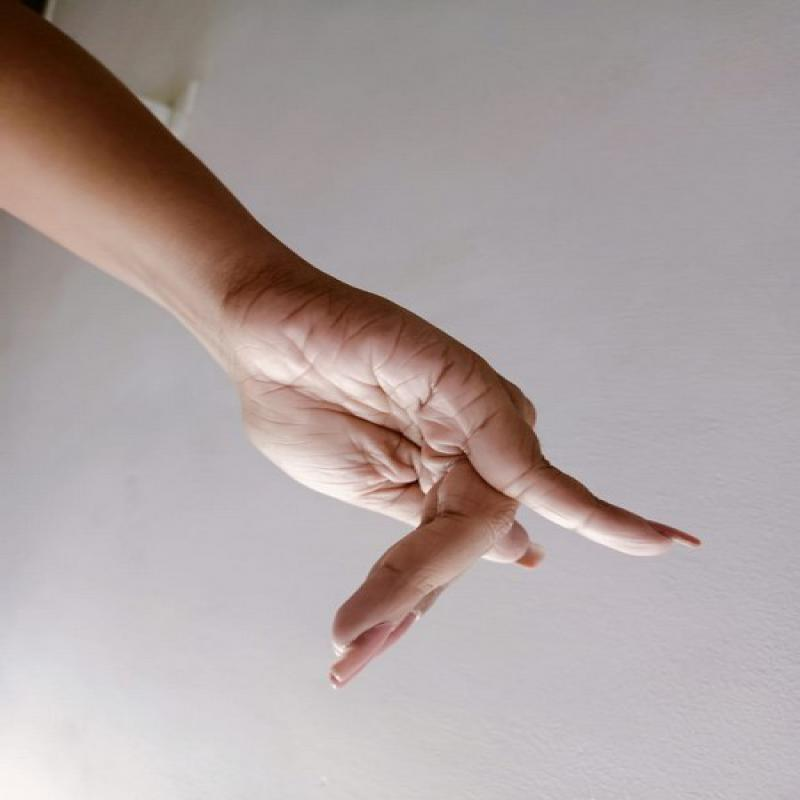Kartharee Mukham: (224, 259, 713, 707)
